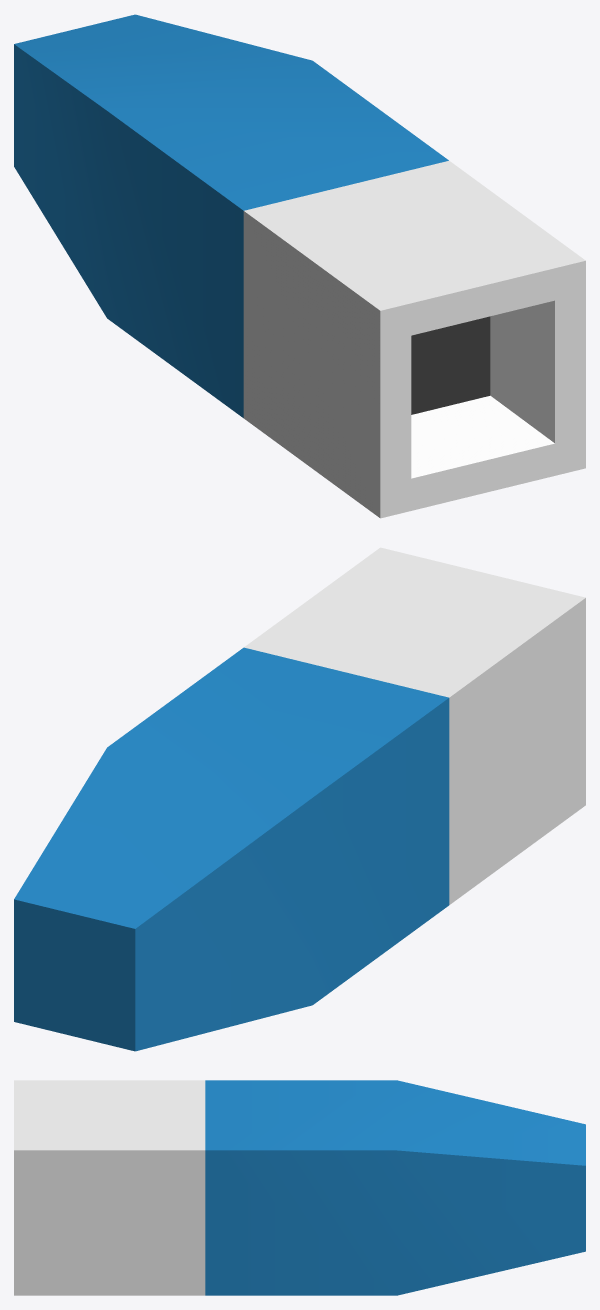
The model's file is Spaceship Gun.fbx.
3 renders of one model, top to bottom at view 1: azimuth 30°, elevation 25°; view 2: azimuth 150°, elevation 25°; view 3: azimuth 270°, elevation 25°, orthographic. The views are drawn at different scales.
Parts seen in each view (by area): view 1: engine_plane_3; view 2: engine_plane_3; view 3: engine_plane_3.
Part boxes in pixels (box(x1,y1,x2,y2)): engine_plane_3: box(14, 14, 585, 518); engine_plane_3: box(14, 547, 585, 1051); engine_plane_3: box(14, 1080, 585, 1295).
Bounding box in the file's own units: 4.3 × 4.15 × 14.8.
